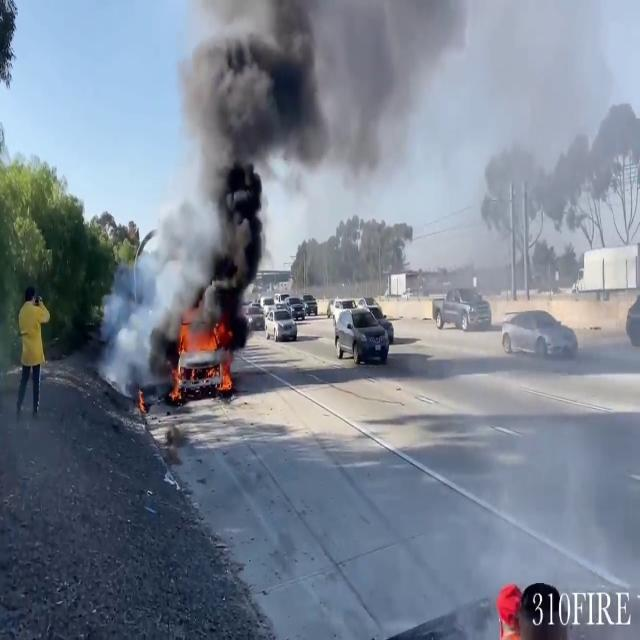Fire: (172, 316, 234, 399)
Smoke: (156, 0, 463, 333), (93, 234, 180, 395)
